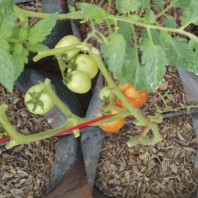tomato: (21, 81, 60, 121), (114, 77, 151, 118), (95, 103, 128, 135), (52, 32, 86, 59), (61, 68, 94, 95), (68, 54, 100, 78), (97, 85, 114, 105)
